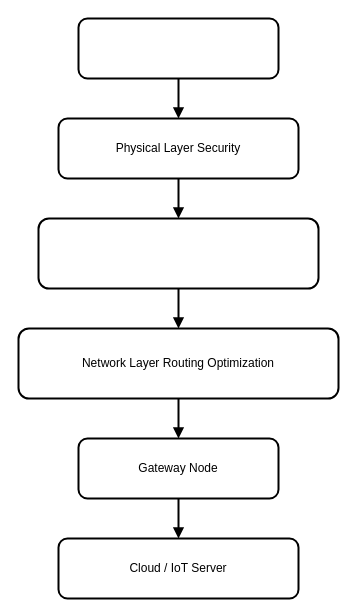
This 356x616 diagram has some shape labels left out. The box of each missing label's shape, as (x1, y1, x2, y2) in pixels:
IoT Sensor Nodes: (77, 17, 279, 79)
MAC Layer Intrusion Detection: (37, 217, 319, 289)
